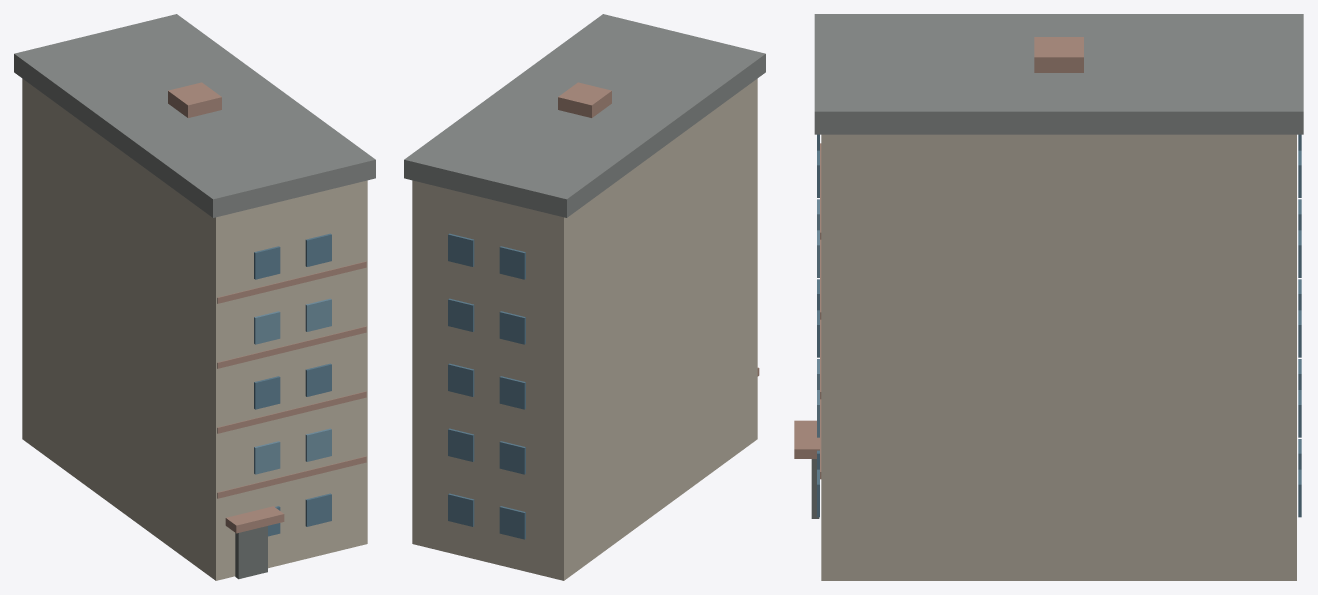
The model's file is house_1x2.glb.
The picture shows the model from 3 angles, left to right: view 1: azimuth 30°, elevation 25°; view 2: azimuth 150°, elevation 25°; view 3: azimuth 270°, elevation 25°; orthographic projection. The views are drawn at different scales.
Visible parts, largest first — view 1: house_1x2; view 2: house_1x2; view 3: house_1x2.
Boxes of the visible parts, x1,y1,x2,y2 form: house_1x2: (14, 14, 375, 580); house_1x2: (404, 14, 765, 580); house_1x2: (794, 14, 1303, 580).
Bounding box in the file's own units: 1.73 × 4.04 × 3.82.
